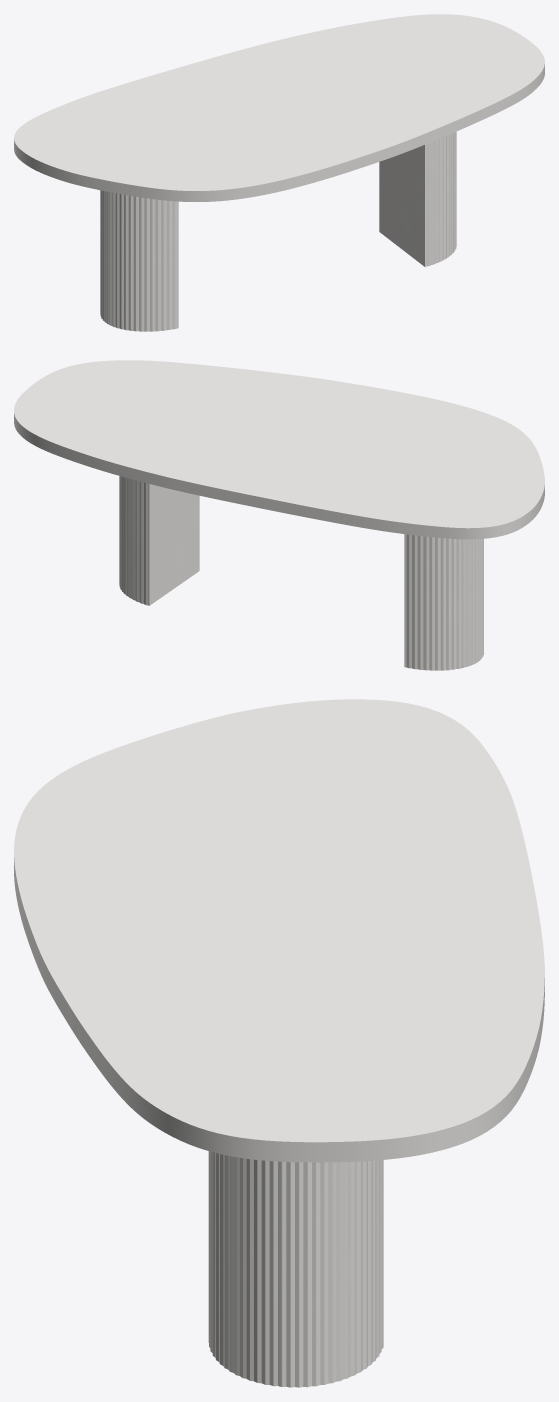
File: purewhite_leaf2_standard_flute.glb
3 renders of one model, top to bottom at view 1: azimuth 30°, elevation 25°; view 2: azimuth 150°, elevation 25°; view 3: azimuth 270°, elevation 25°, orthographic. The views are drawn at different scales.
Visible parts, largest first — view 1: standard_leaf2, flute; view 2: standard_leaf2, flute; view 3: standard_leaf2, flute.
Boxes of the visible parts, box(x1,y1,x2,y2) form: standard_leaf2: box(14, 14, 544, 201); flute: box(100, 131, 456, 331); standard_leaf2: box(14, 360, 544, 539); flute: box(119, 476, 483, 670); standard_leaf2: box(14, 699, 544, 1162); flute: box(208, 1151, 383, 1387).
Bounding box in the file's own units: 7.5 × 2.52 × 3.8.
Materials: 1 (1 with a texture image).
